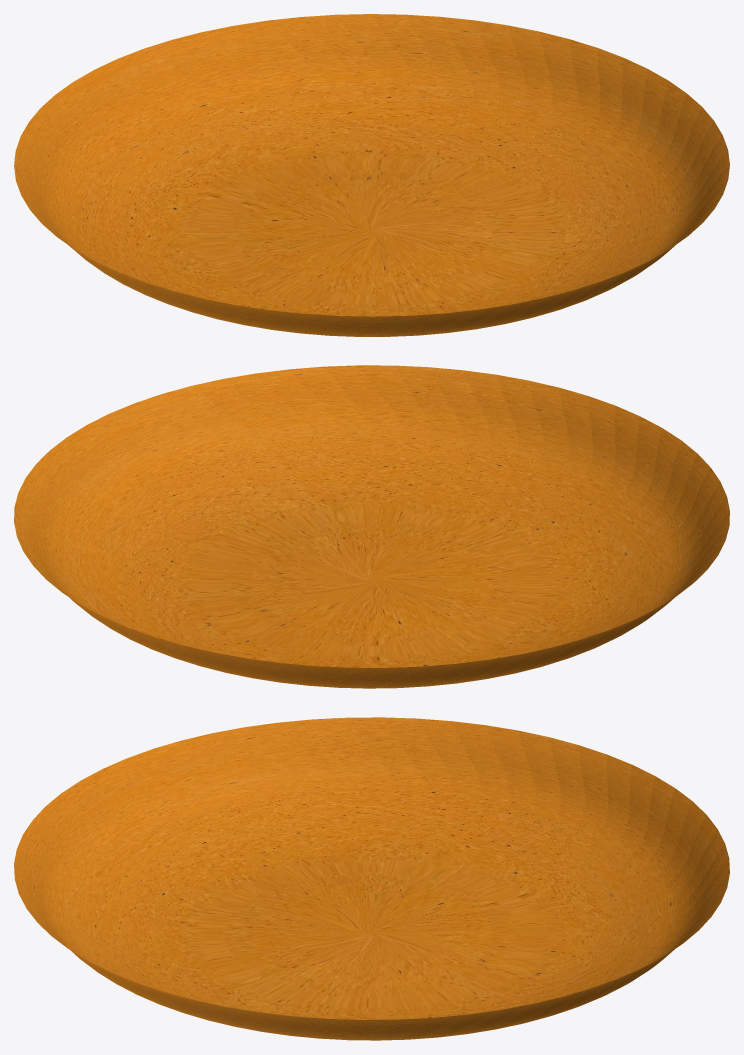
The model's file is plate.draco.glb.
3 renders of one model, top to bottom at view 1: azimuth 30°, elevation 25°; view 2: azimuth 150°, elevation 25°; view 3: azimuth 270°, elevation 25°, orthographic.
Parts seen in each view (by area): view 1: Object_2; view 2: Object_2; view 3: Object_2.
Boxes of the visible parts, x1,y1,x2,y2 form: Object_2: [14, 14, 729, 336]; Object_2: [14, 365, 729, 688]; Object_2: [14, 717, 729, 1040].
Size of the model in its own units: 9.08 by 0.9365 by 9.08.
Materials: 1 (1 with a texture image).
